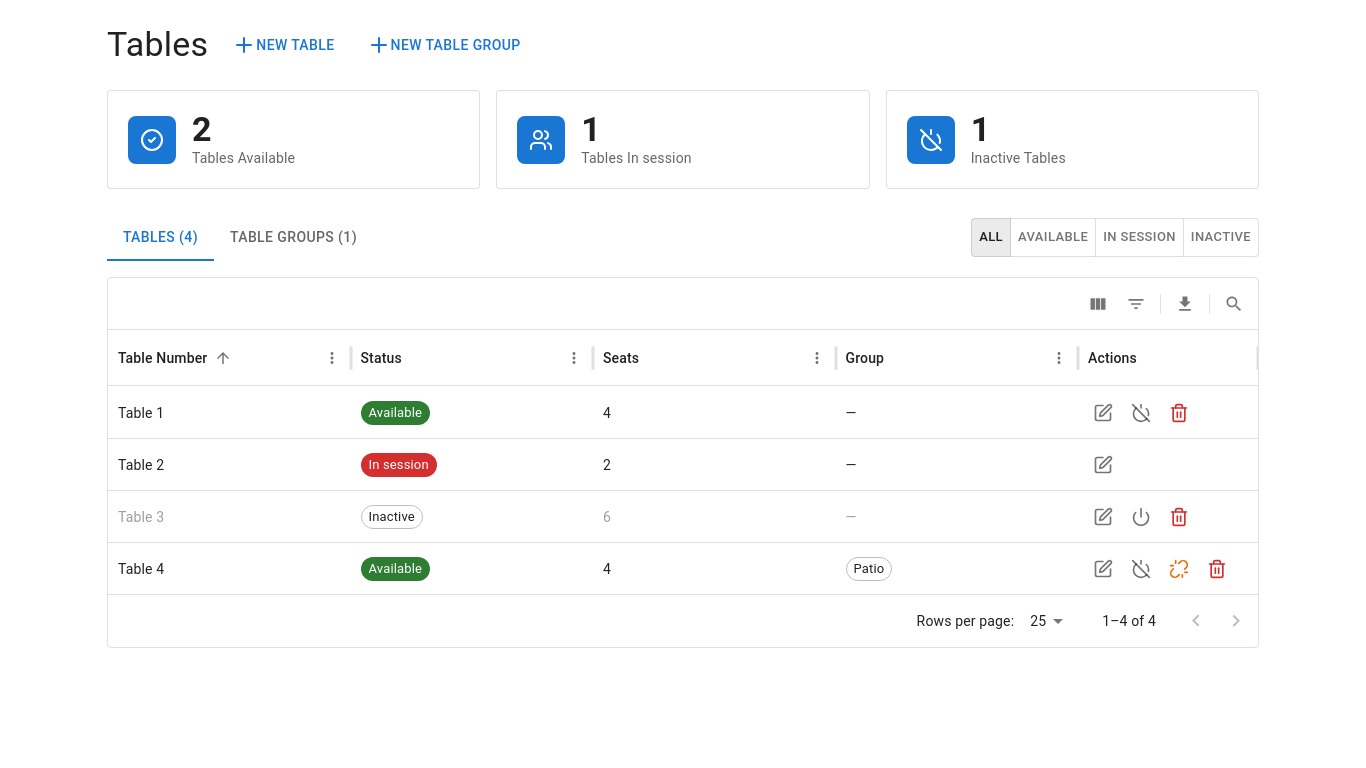
Test: Table dashboard › shows status counts and filters rows by status
expect the text "Table 1" is shown: met, box [118,405,164,421]
expect the text "Tables Available" reads "2 Tables Available": met, box [107,90,480,189]
Click the button "Available" at [1053, 237], box [1010,218,1096,257]
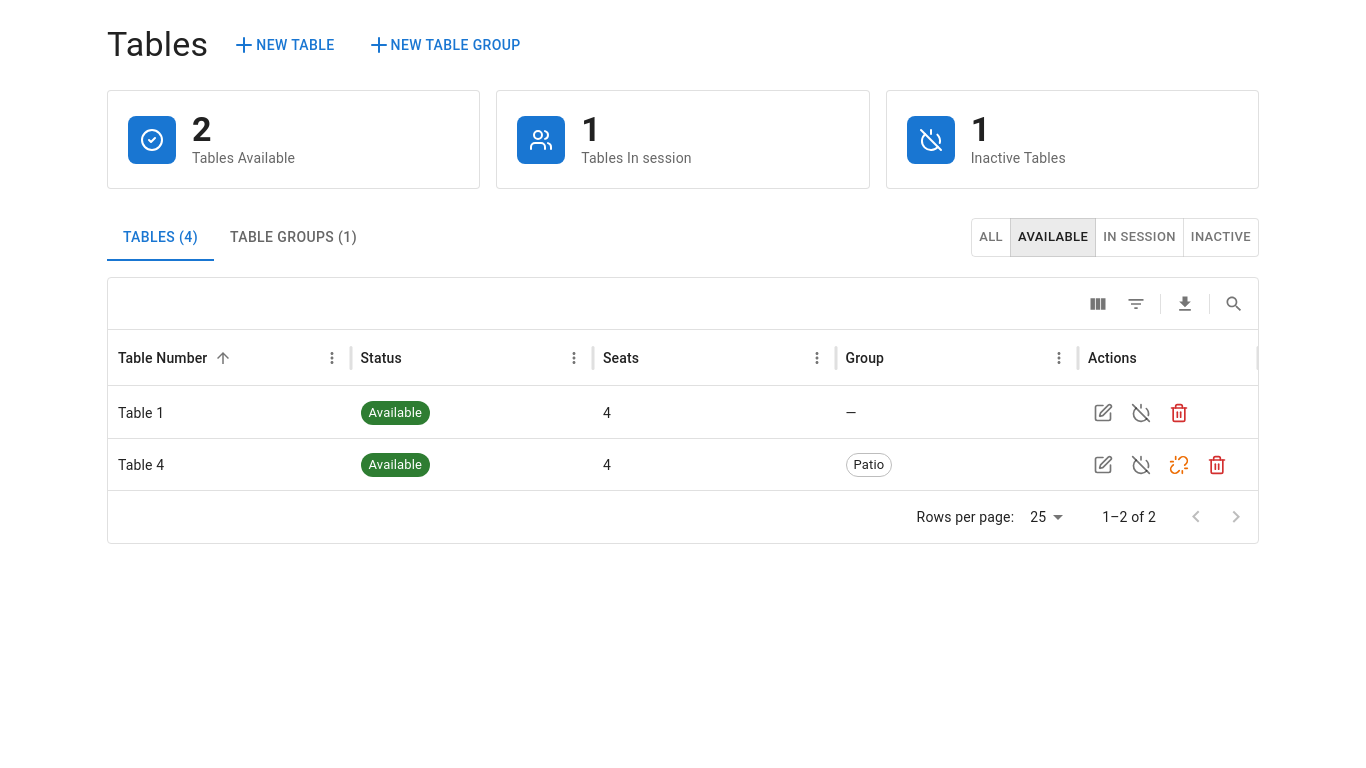
expect the text "Table 1" is shown: met, box [118,405,164,421]
expect the text "Table 2" is gone: met
expect the text "Table 3" is gone: met
